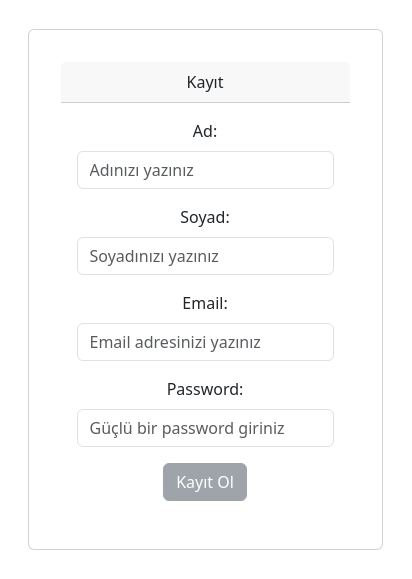
Register Page › Error Messages › email input throws error for caner@yah.
In the field with test id "email-input": (206, 342) [77,323,334,361], type "caner@yah."
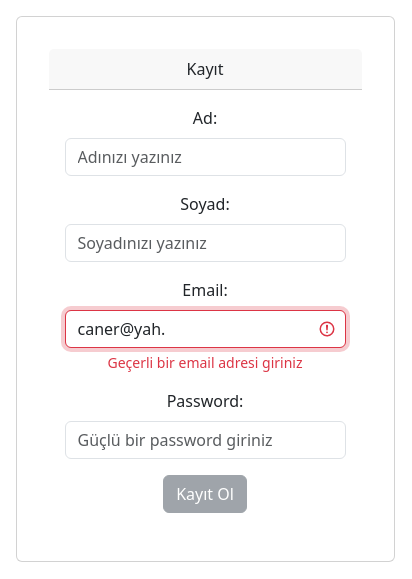
Expected: the text "Geçerli bir email adresi giriniz" is shown, [108,353,302,372]
